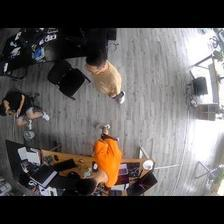normal: (82, 123, 122, 188), (85, 50, 128, 104)
